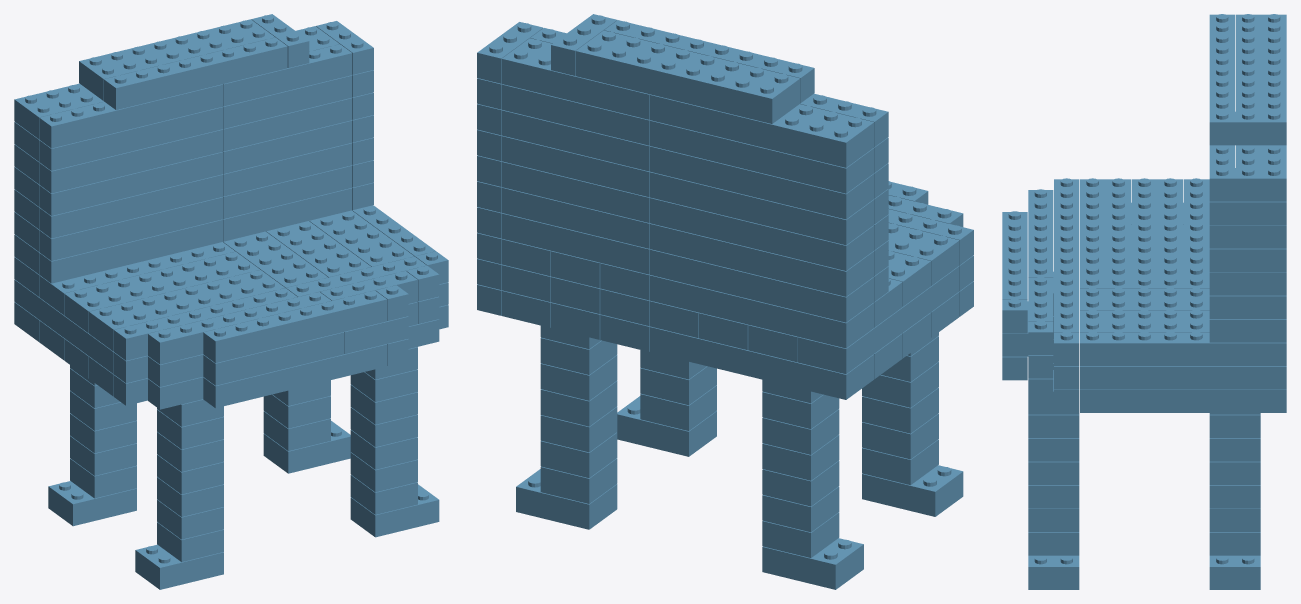
The model's file is 036_bench_L1.glb.
3 views of the same model, side by side, from view 1: azimuth 30°, elevation 25°; view 2: azimuth 150°, elevation 25°; view 3: azimuth 270°, elevation 25° (orthographic). The views are drawn at different scales.
Size of the model in its own units: 14.98 by 19.13 by 10.98.
